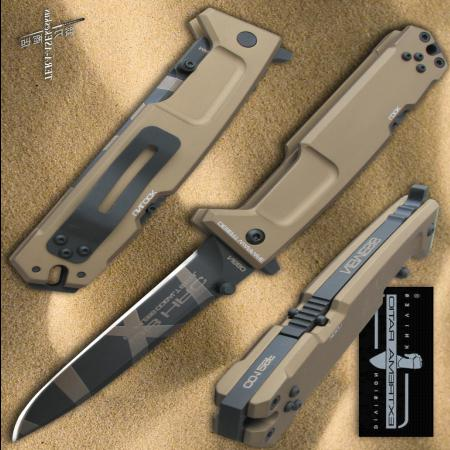long weapon: (5, 233, 264, 447)
